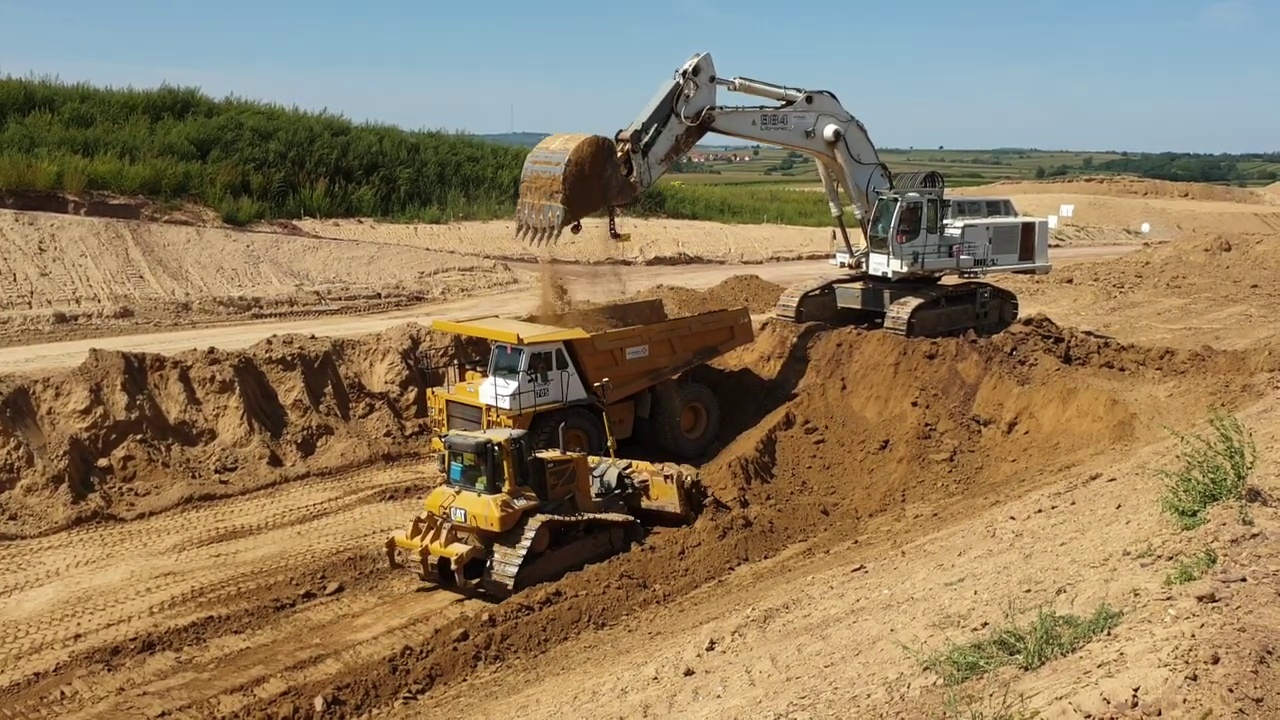bulldozer: (381, 376, 715, 610)
excavator: (511, 50, 1056, 347)
truck: (408, 292, 768, 496)
